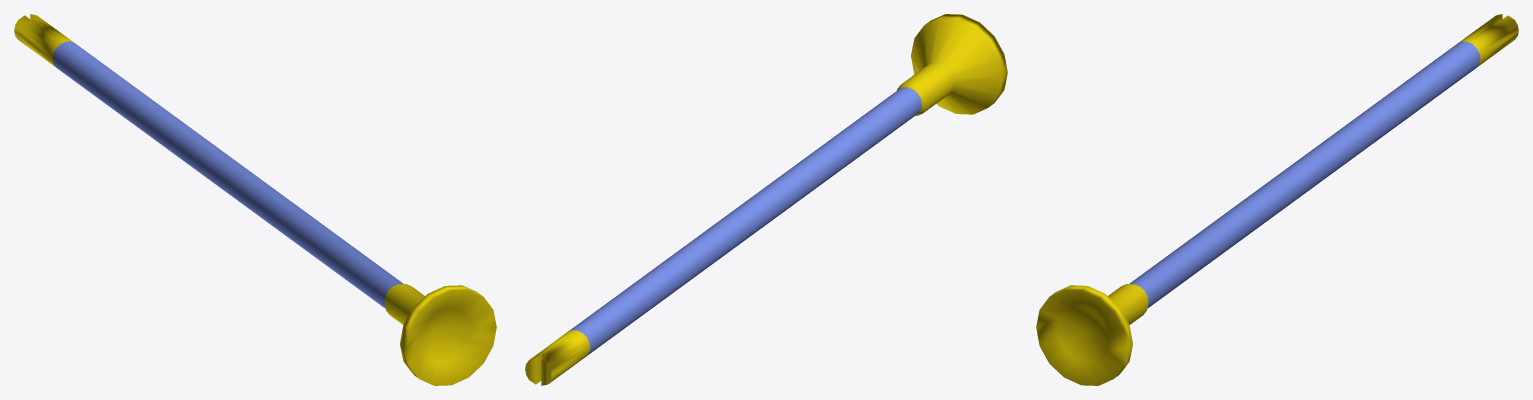
The model's file is arrow.fbx.
3 views of the same model, side by side, from view 1: azimuth 30°, elevation 25°; view 2: azimuth 150°, elevation 25°; view 3: azimuth 330°, elevation 25° (orthographic).
Parts seen in each view (by area): view 1: Cube.001; view 2: Cube.001; view 3: Cube.001.
Part boxes in pixels (box(x1,y1,x2,y2)): Cube.001: box(14, 14, 496, 385); Cube.001: box(525, 14, 1007, 385); Cube.001: box(1036, 14, 1518, 385).
Bounding box in the file's own units: 307 × 307 × 2497.
